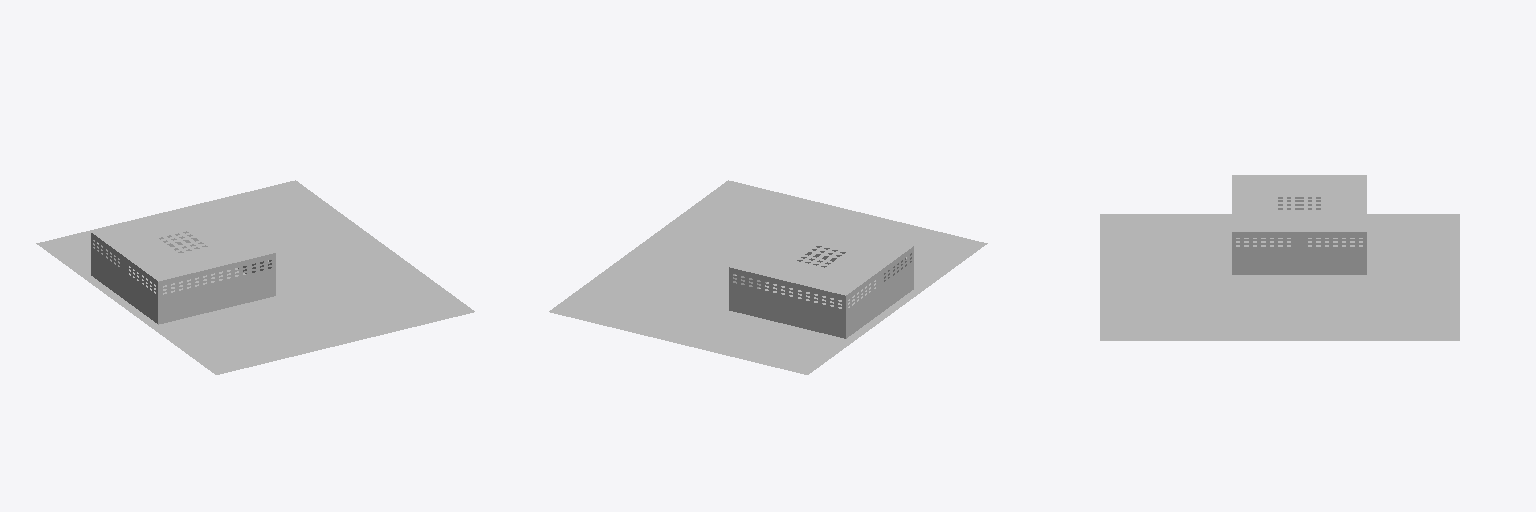
The model's file is stage_background.obj.
The picture shows the model from 3 angles: view 1: azimuth 30°, elevation 25°; view 2: azimuth 150°, elevation 25°; view 3: azimuth 270°, elevation 25°; orthographic projection.
Visible parts, largest first — view 1: FakeFloor_Plane.001, Walls_Plane; view 2: FakeFloor_Plane.001, Walls_Plane; view 3: FakeFloor_Plane.001, Walls_Plane.
Part boxes in pixels (left/top/right/bottom): FakeFloor_Plane.001: left=36, top=180, right=474, bottom=374; Walls_Plane: left=91, top=203, right=275, bottom=324; FakeFloor_Plane.001: left=549, top=180, right=987, bottom=374; Walls_Plane: left=729, top=218, right=913, bottom=338; FakeFloor_Plane.001: left=1100, top=214, right=1459, bottom=340; Walls_Plane: left=1232, top=175, right=1366, bottom=274.
Bounding box in the file's own units: 118 × 18.96 × 142.